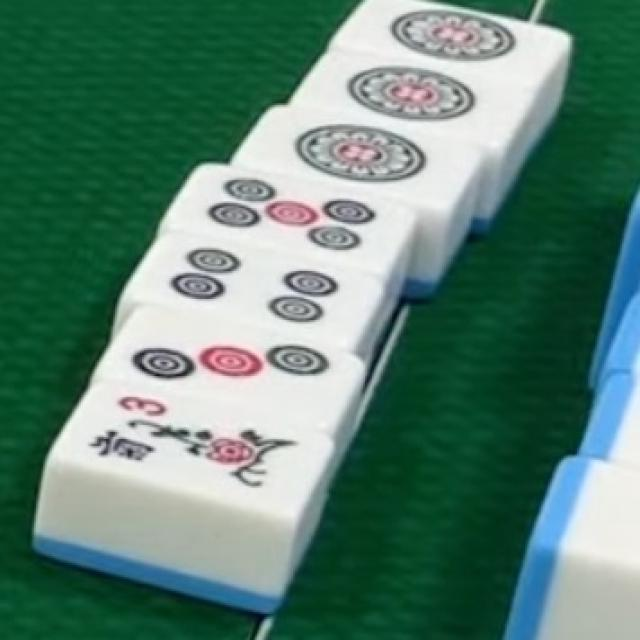f3: (86, 394, 298, 494)
t1: (286, 114, 431, 185), (328, 62, 486, 124), (373, 1, 521, 67)
t3: (130, 314, 330, 396)
t4: (165, 240, 340, 324)
t5: (201, 171, 378, 254)
